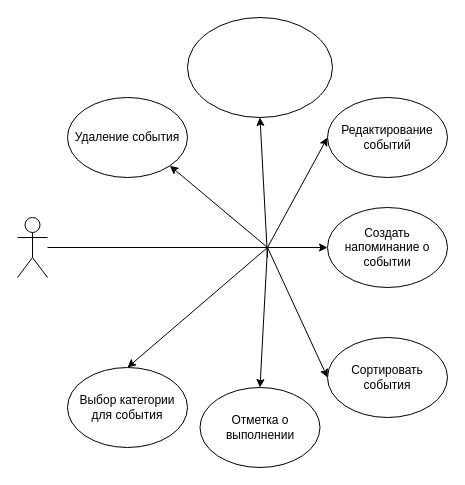
Some shapes in this 465 by 485 pixel diagram are drawn without their labels. The box of each missing label's shape, as (x1, y1, x2, y2) in pixels:
Actor: (16, 216, 48, 278)
Создание таблицы с нужной информацией/события: (186, 16, 332, 118)
